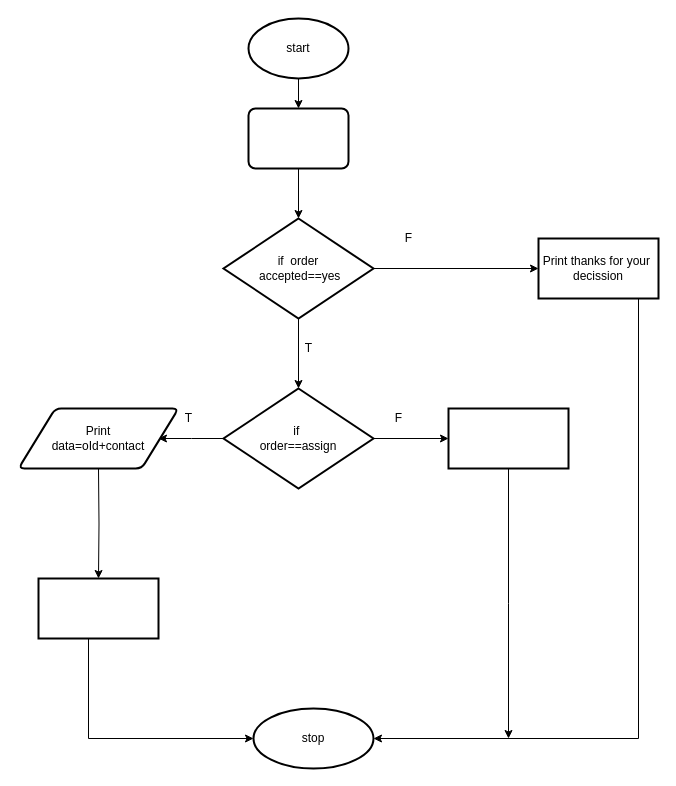
Some shapes in this 676 by 786 pixel diagram are drawn without their labels. The shapes that lost their labels are listed below. From the top down, each one's centre as x and y in pixels, then its label:
At (298,138): "input order id".
At (508,438): "print order is alredy accepted".
At (98,608): "Print thanks & picup order".
